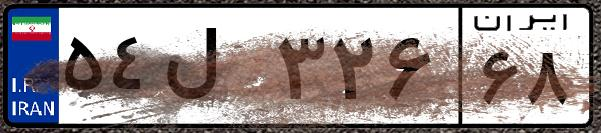2: (330, 28, 385, 110)
3: (270, 28, 330, 110)
4: (110, 28, 158, 98)
5: (57, 26, 110, 100)
6: (385, 28, 445, 110), (475, 38, 525, 113)
8: (525, 38, 570, 115)
ل: (158, 20, 270, 120)
